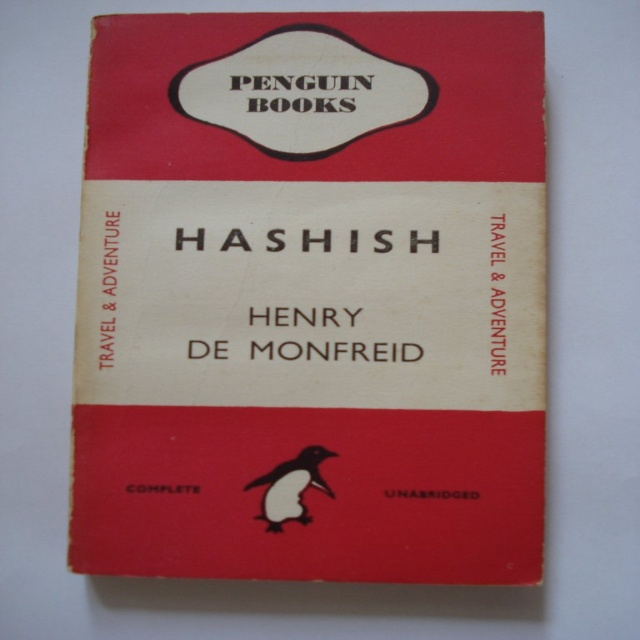Penguin: (246, 438, 354, 539)
